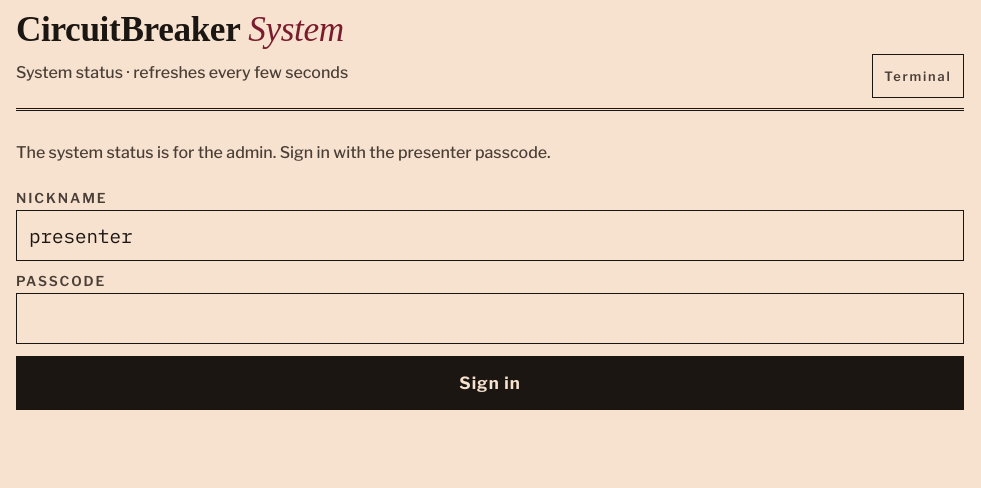
StatusPage › asks for the passcode when not signed in, then shows the report
Type "the-passcode" into the password field labelled "Passcode" at point(490, 319), box [16, 293, 964, 344]
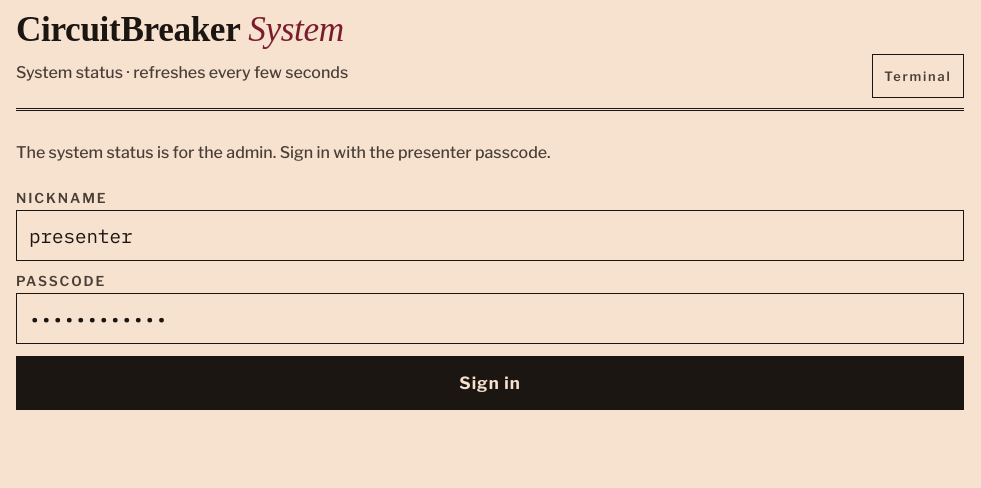
Click the button "Sign in" at point(490, 383), box [16, 356, 964, 410]
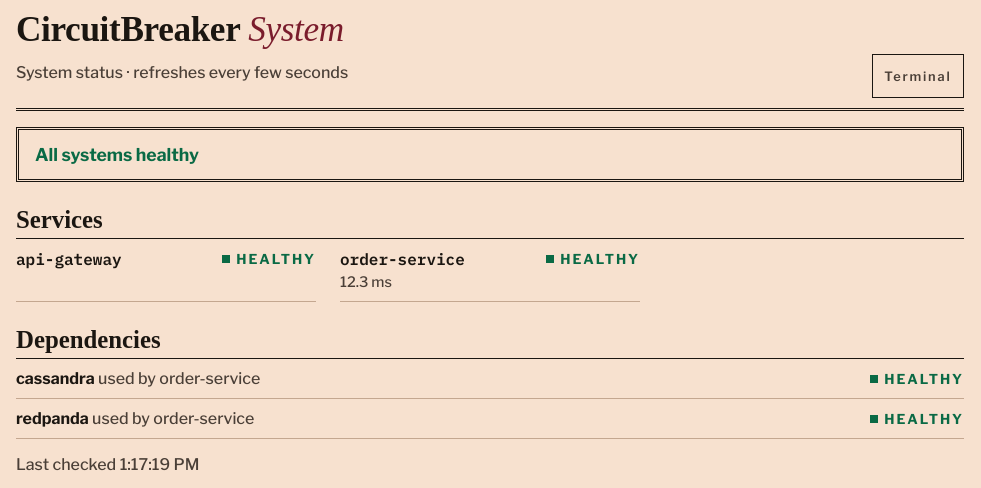
Now the text "All systems healthy" is shown, box [16, 127, 964, 182]
